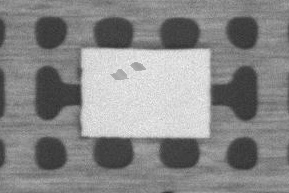DIE_INK: (109, 67, 128, 81), (127, 59, 147, 72)
